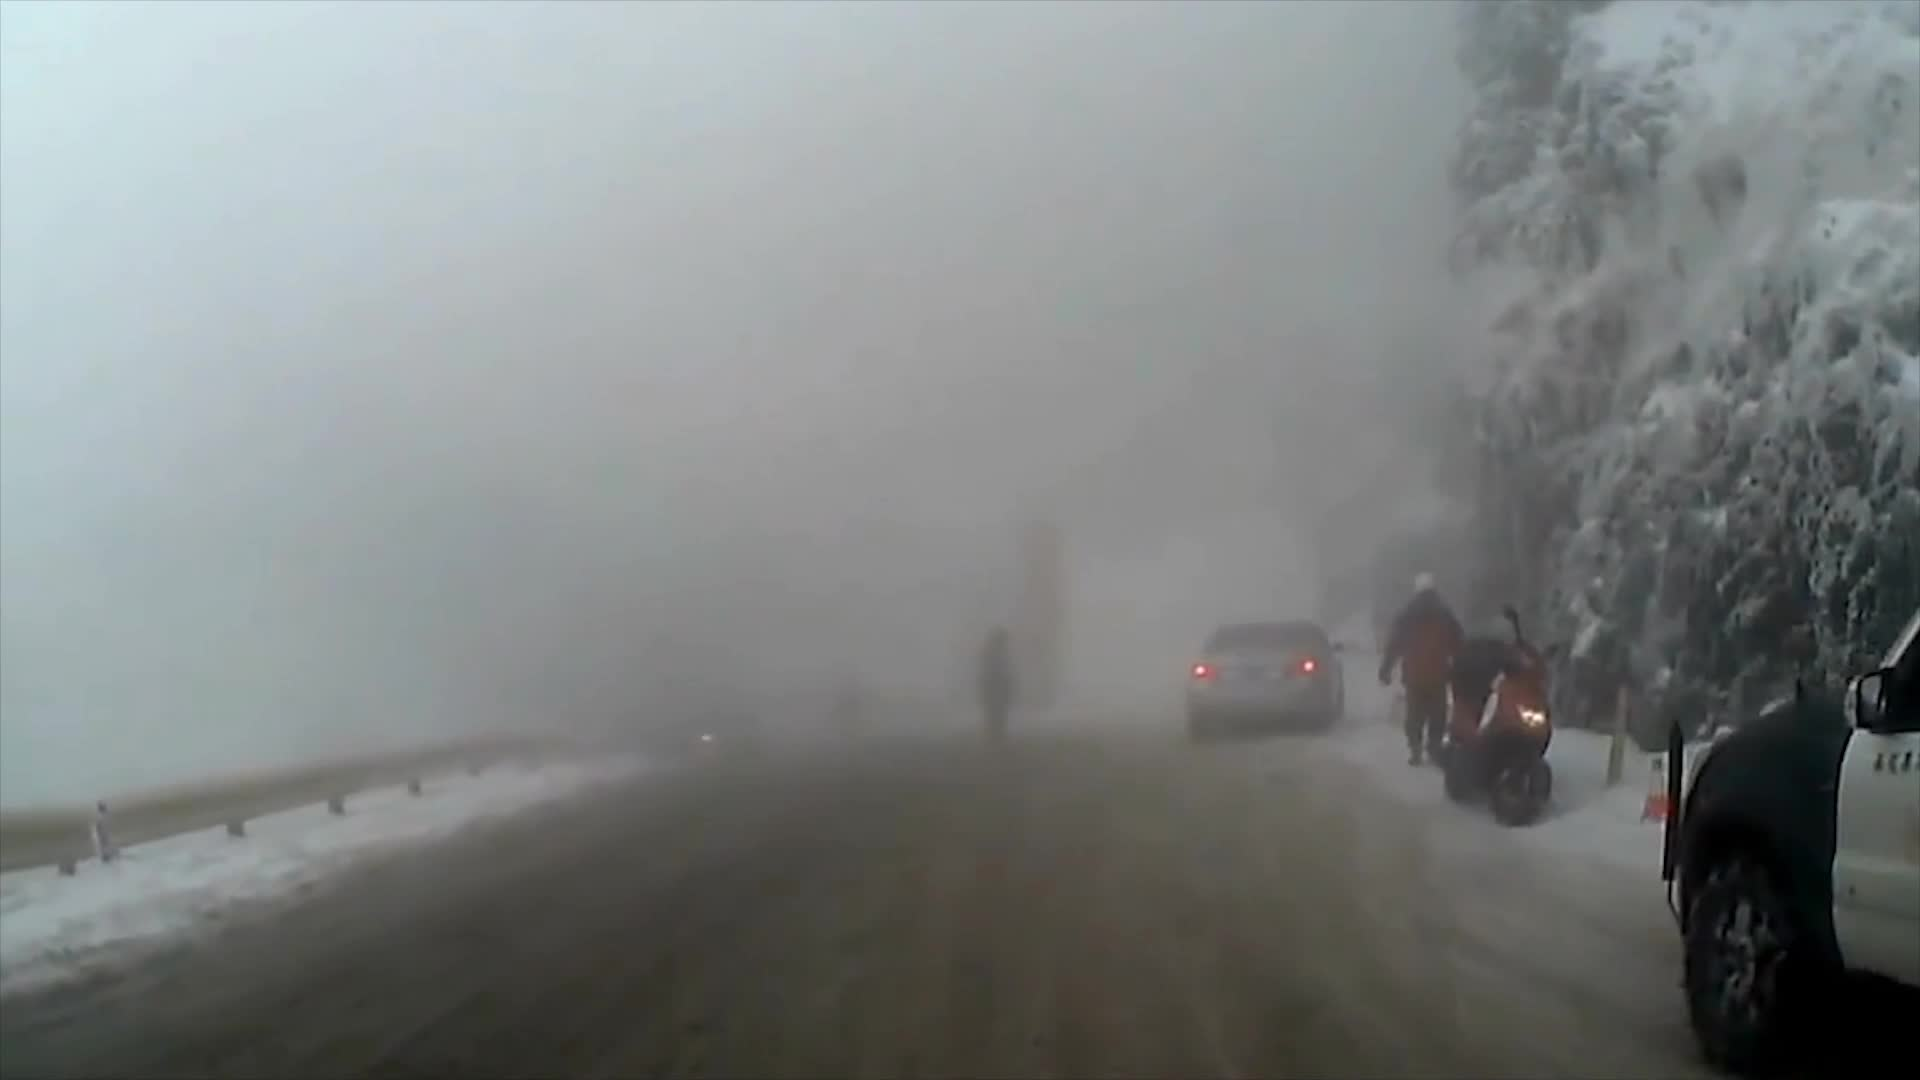pedestrian: (1378, 570, 1478, 773), (973, 634, 1012, 765)
vehicle: (1650, 556, 1917, 1079), (1179, 620, 1344, 747)
